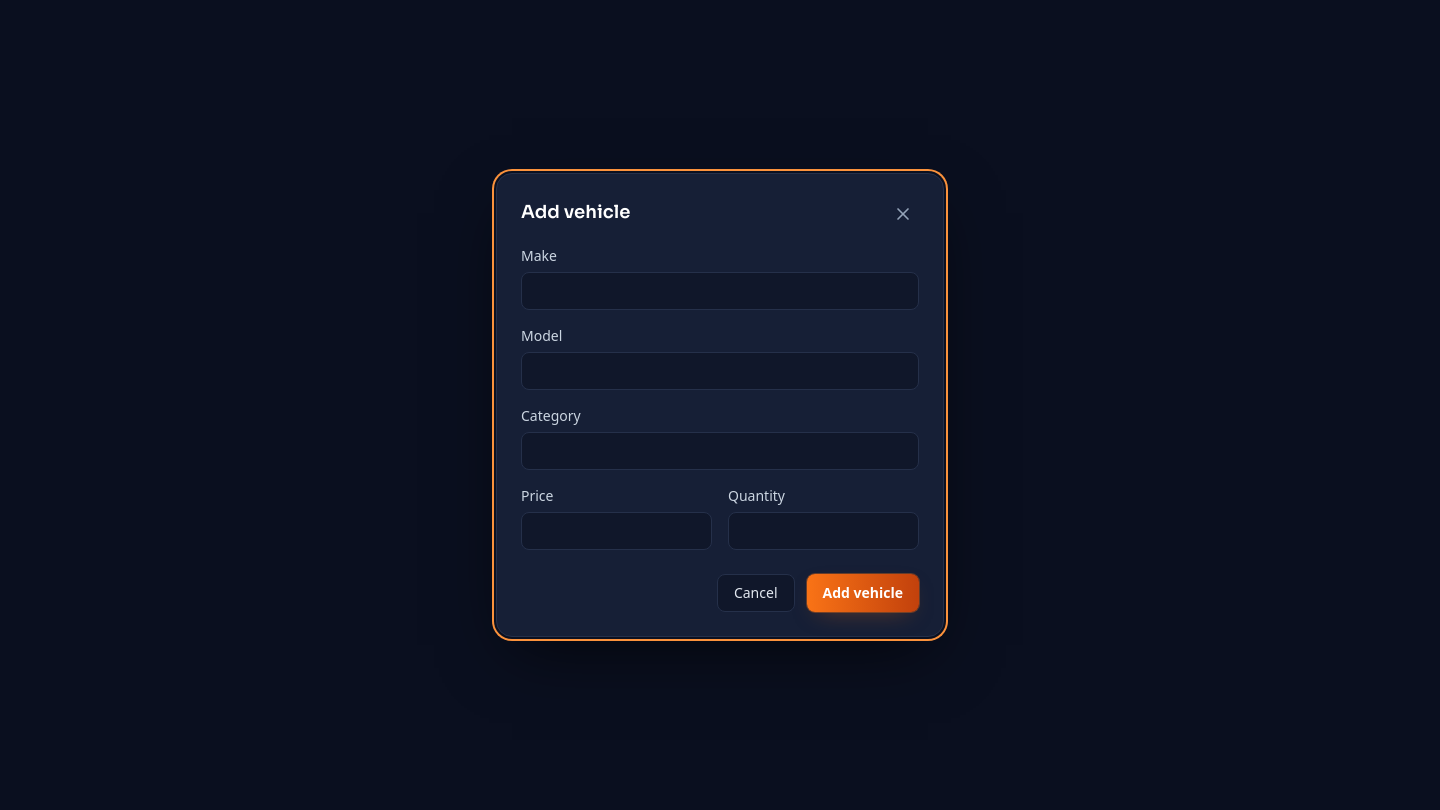
VehicleFormModal › shows required-field errors when submitting an empty form
Step 1. Click the button "Add vehicle" → click(863, 593), box [806,574,919,612]
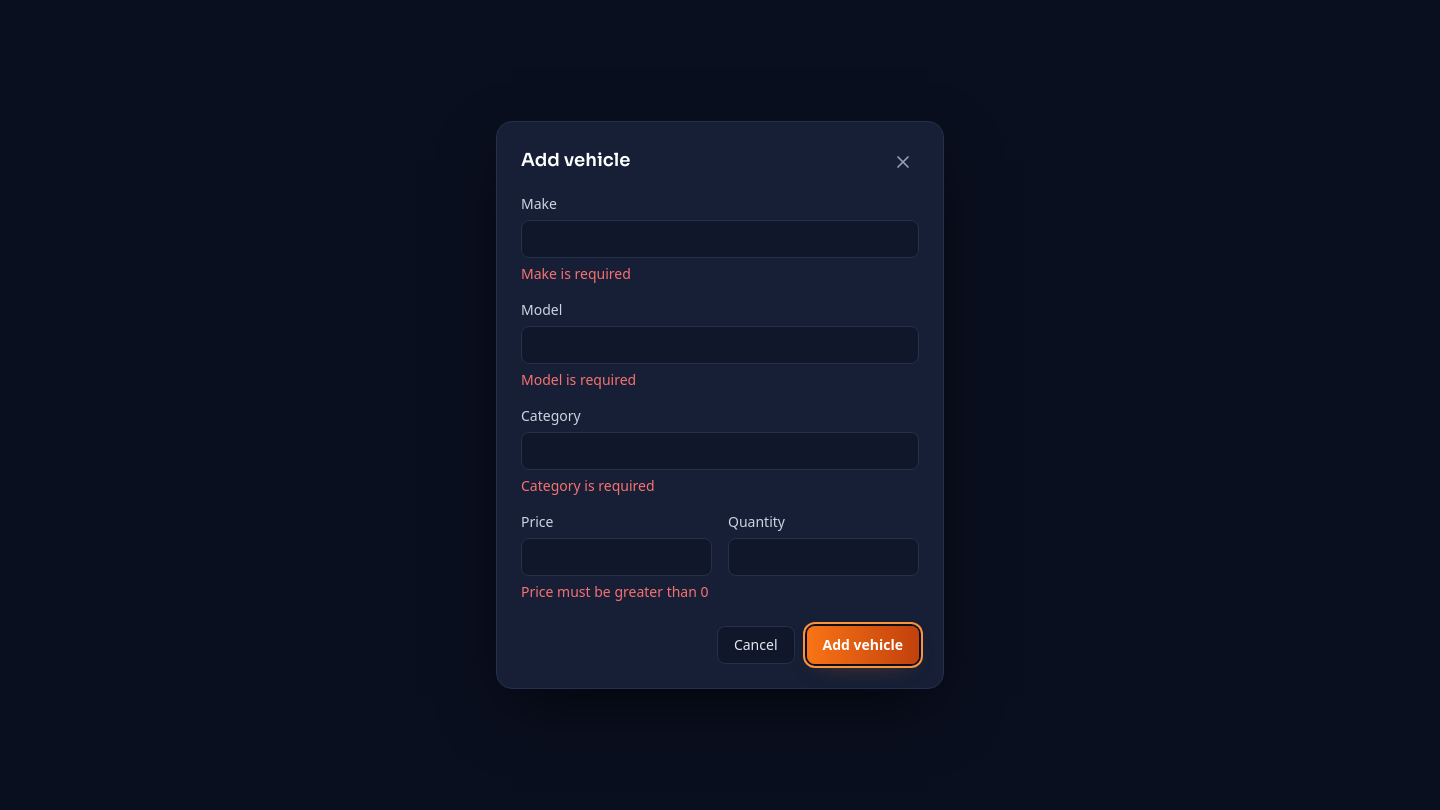
Check: the text "Make is required" is shown, box [521,264,631,283]
Check: the text "Model is required" is shown, box [521,370,636,389]
Check: the text "Category is required" is shown, box [521,476,654,495]
